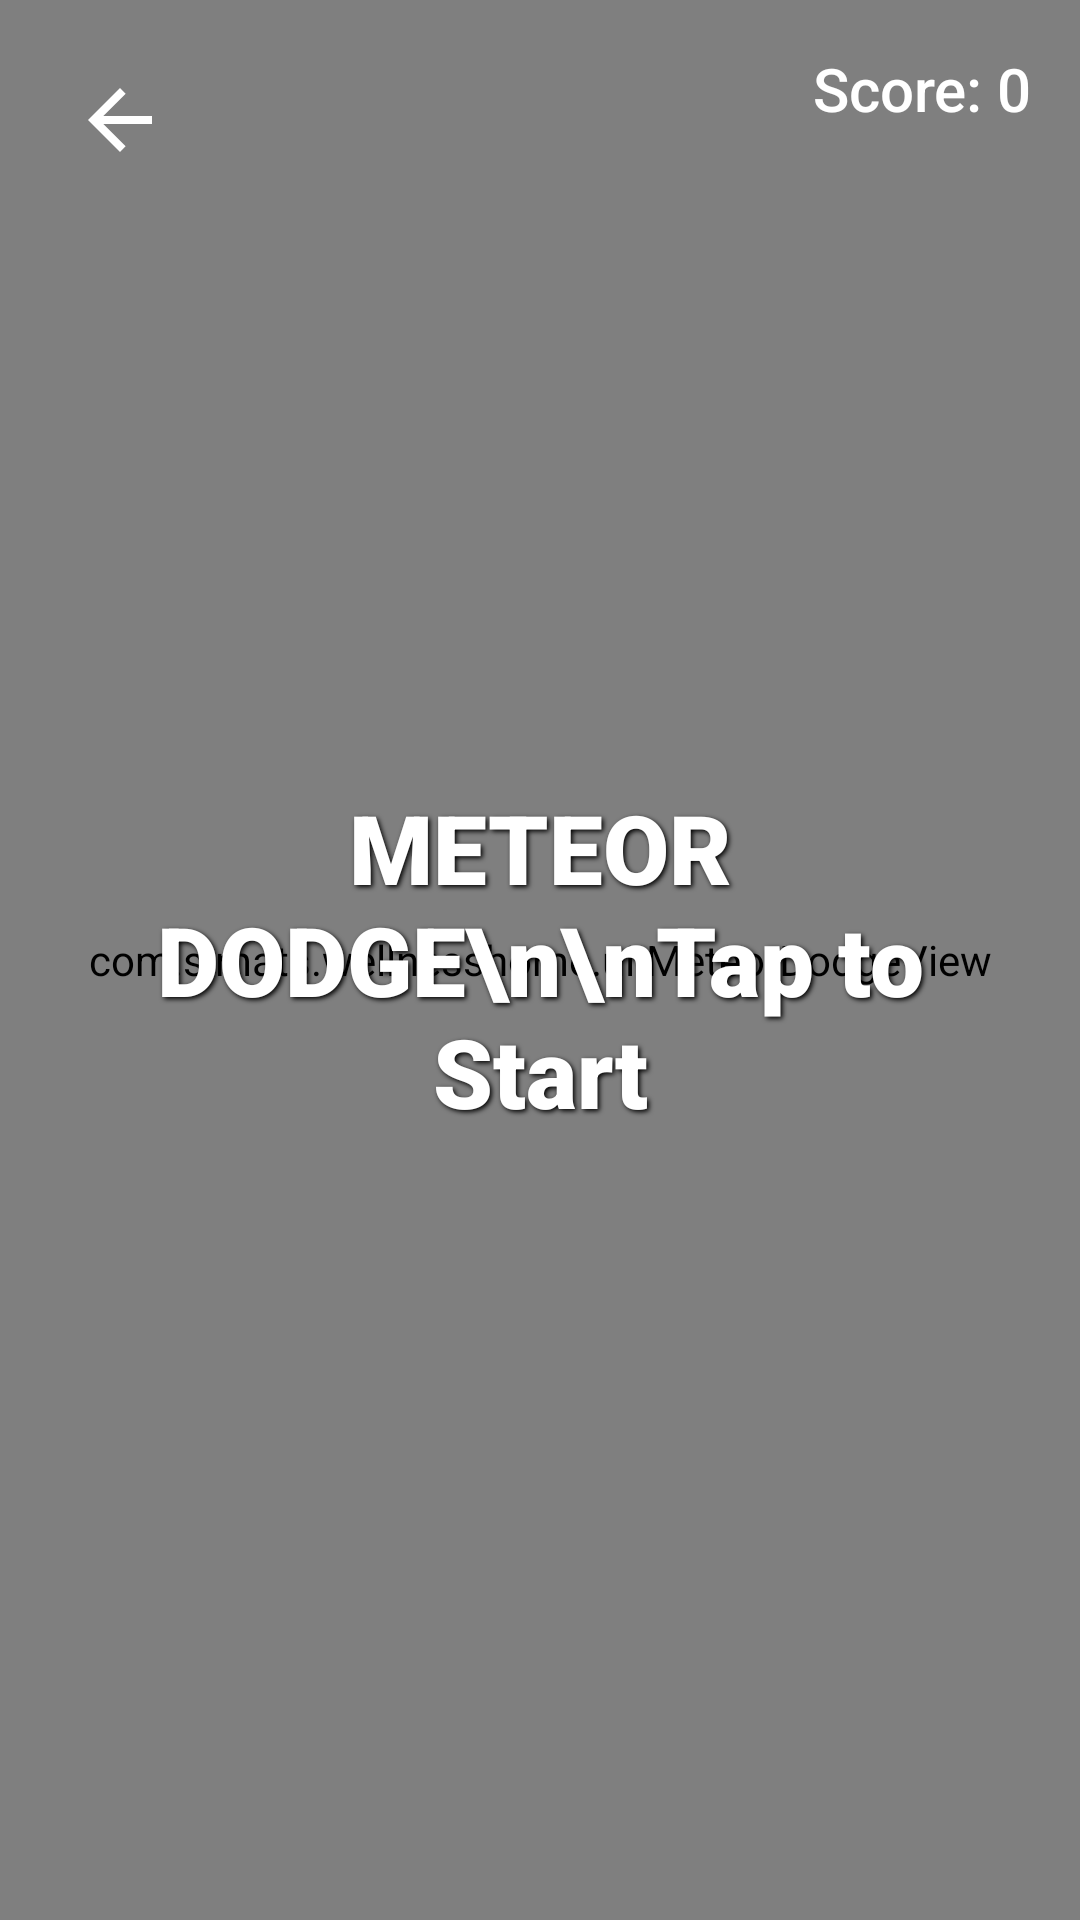

Icons on this 1080*1920 Android screen, each with its box as box(x1, y1, x2, y2):
arrow back: box(88, 88, 152, 152)
